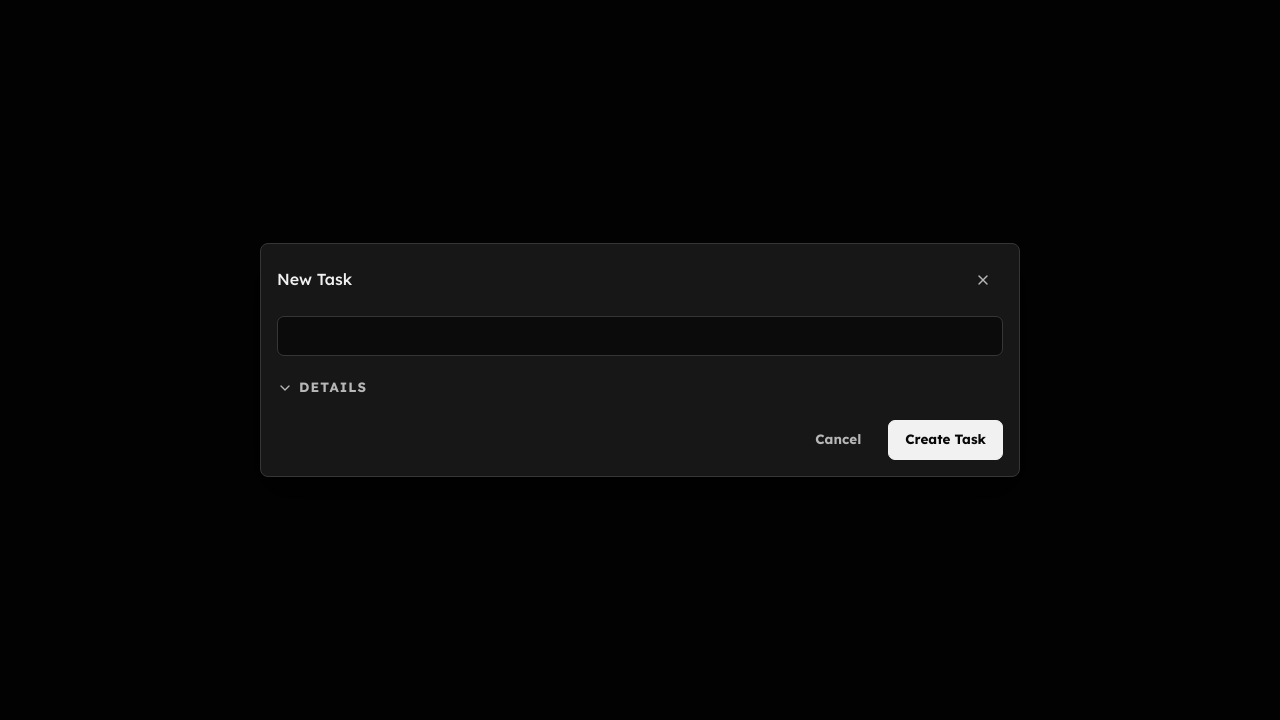
Scenario: TaskEditor › shows exact tabs on expansion and presents only the selected tab
What coordinates should you click on to do the following:
click the button "DETAILS"
I would click on:
 (322, 388)
Its box is [277,368,367,408].
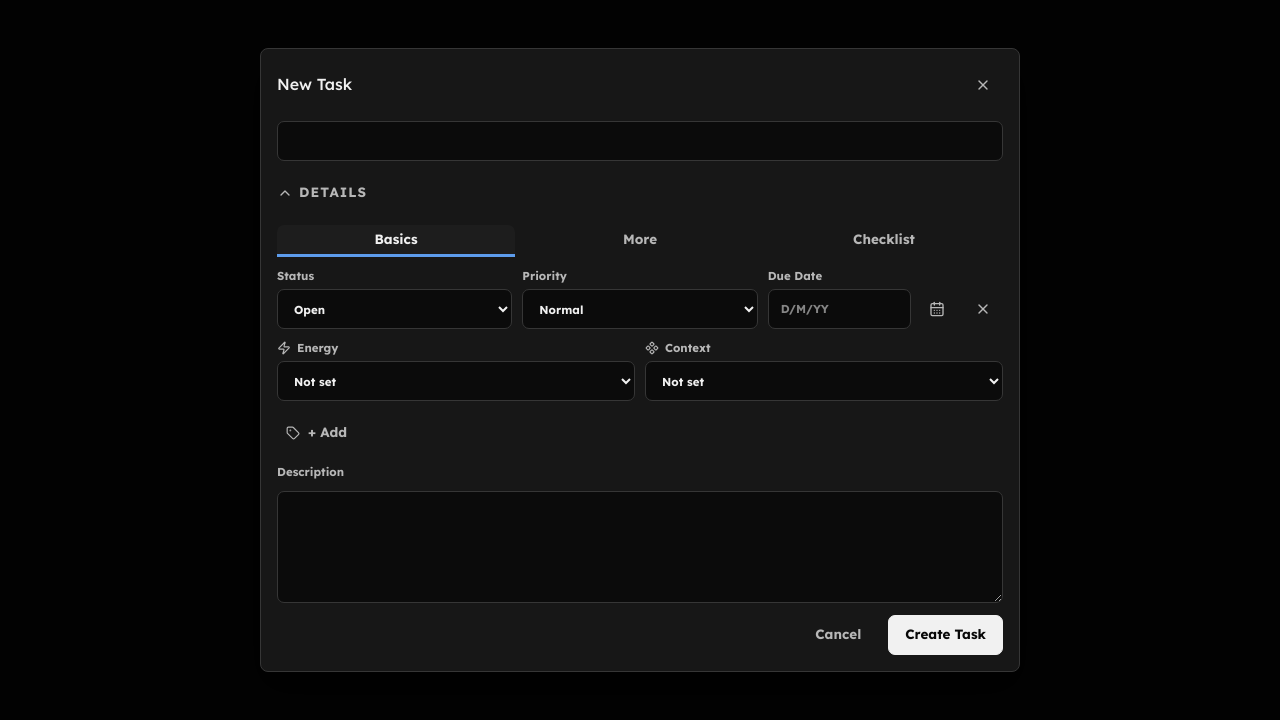
Check: the tabs read "Basics", "More", "Checklist", in this order
Check: the dropdown labelled "Status" is shown, box [277,289,512,329]
Check: the text "Due Date" is shown, box [768,268,822,283]
What coordinates should you click on to do the following:
click the tab "More"
I would click on:
 (640, 241)
Its box is [521,225,759,257].
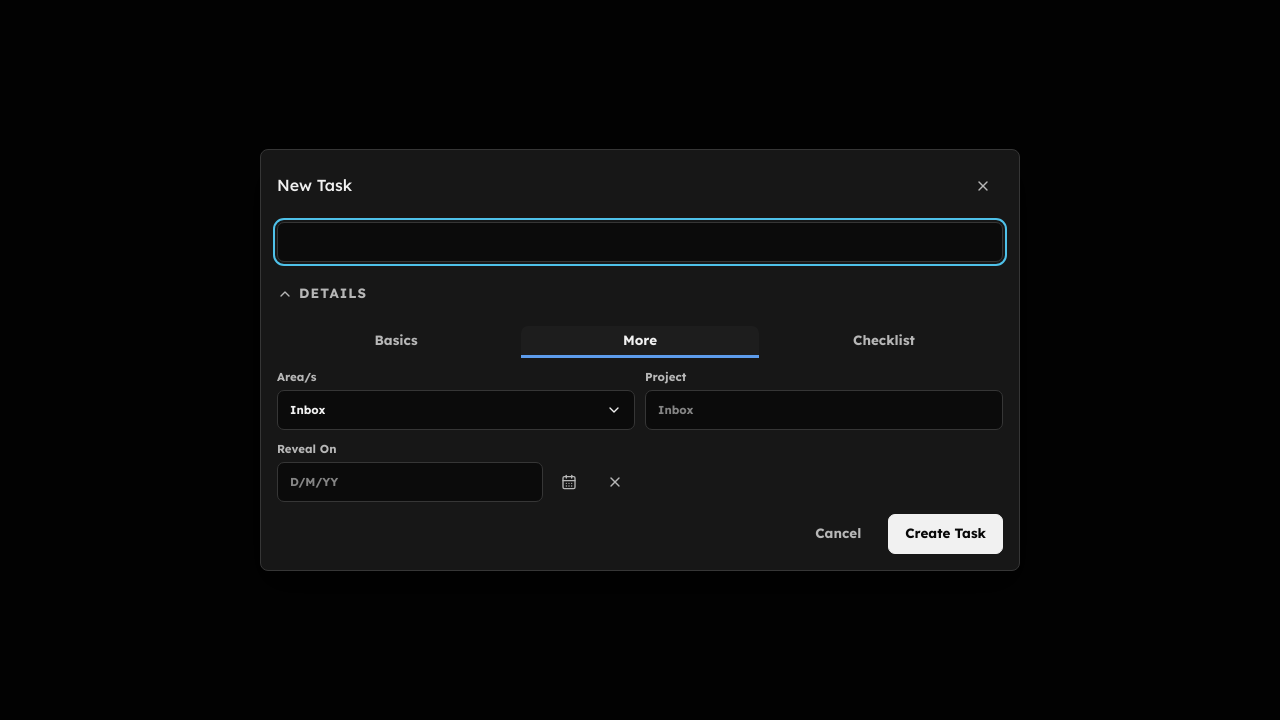
Check: the text "Reveal On" is shown, box [277,441,336,456]
Check: the text labelled "Status" is gone
